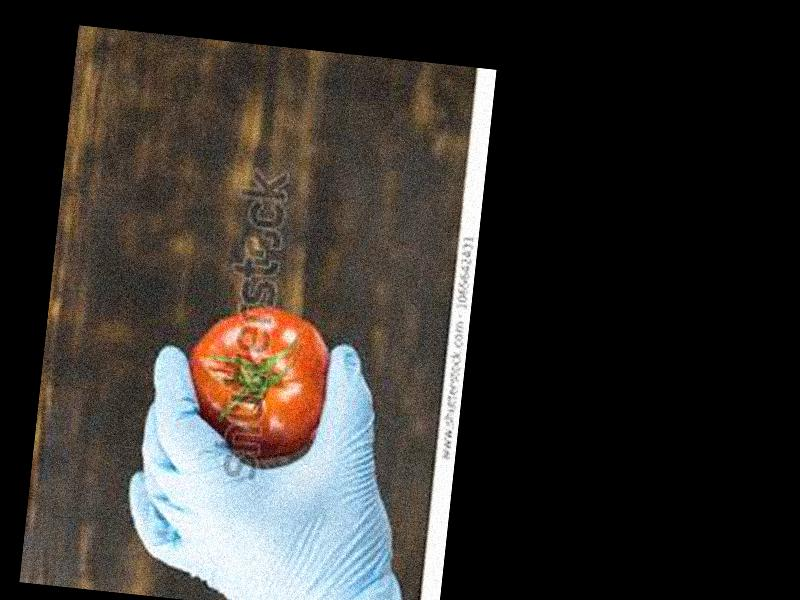Tomato: (179, 297, 336, 466)
